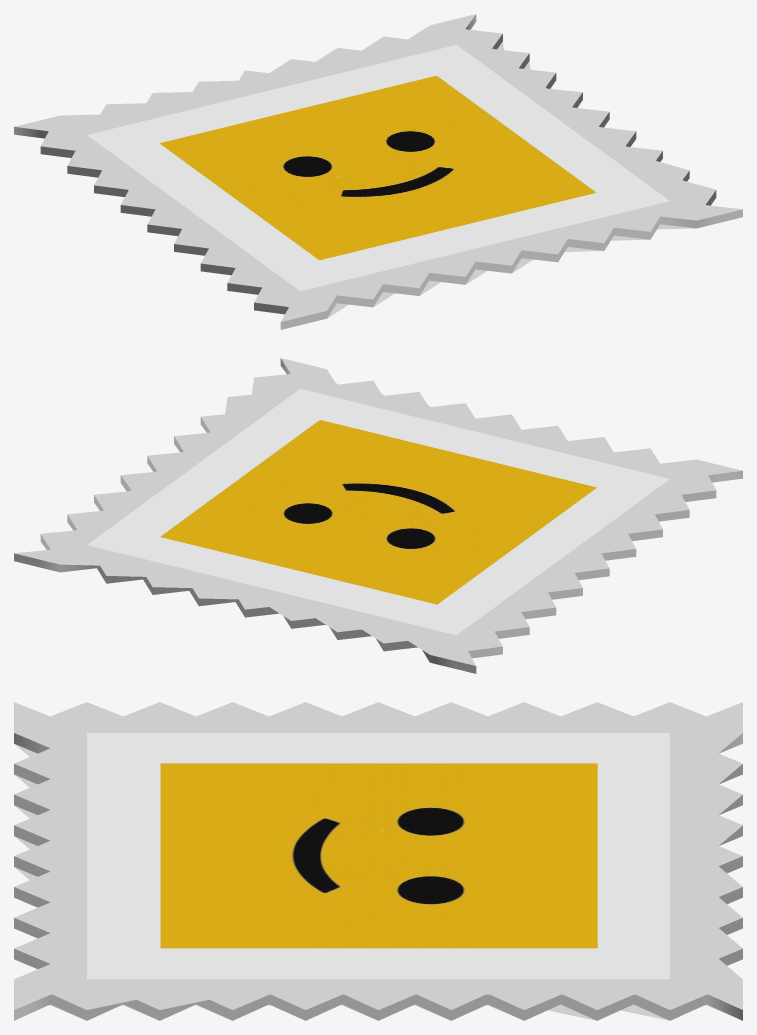
File: Stamp.fbx
The picture shows the model from 3 angles, top to bottom: view 1: azimuth 30°, elevation 25°; view 2: azimuth 150°, elevation 25°; view 3: azimuth 270°, elevation 25°; orthographic projection. The views are drawn at different scales.
Visible parts, largest first — view 1: pCube1; view 2: pCube1; view 3: pCube1.
Part boxes in pixels (left/top/right/bottom): pCube1: left=14, top=14, right=742, bottom=329; pCube1: left=14, top=358, right=742, bottom=673; pCube1: left=14, top=702, right=742, bottom=1020.
Bounding box in the file's own units: 7.6 × 0.1235 × 7.6.
